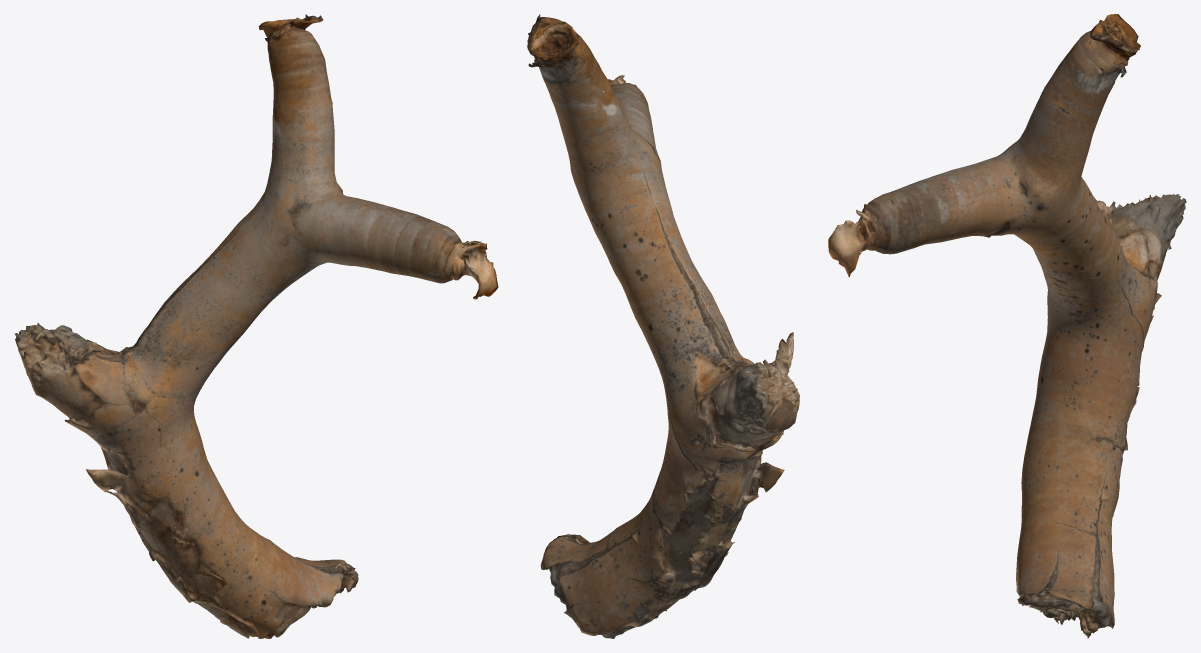
Rendered from dead_quiver_branch_01_1k.gltf.
3 views of the same model, side by side, from view 1: azimuth 30°, elevation 25°; view 2: azimuth 150°, elevation 25°; view 3: azimuth 270°, elevation 25° (orthographic). The views are drawn at different scales.
Parts seen in each view (by area): view 1: dead_quiver_branch_01; view 2: dead_quiver_branch_01; view 3: dead_quiver_branch_01.
Boxes of the visible parts, x1=… form: dead_quiver_branch_01: x1=14, y1=14, x2=498, y2=638; dead_quiver_branch_01: x1=527, y1=14, x2=799, y2=638; dead_quiver_branch_01: x1=828, y1=14, x2=1186, y2=638.
Size of the model in its own units: 0.2549 by 0.4387 by 0.227.
1 material, 1 textured.
